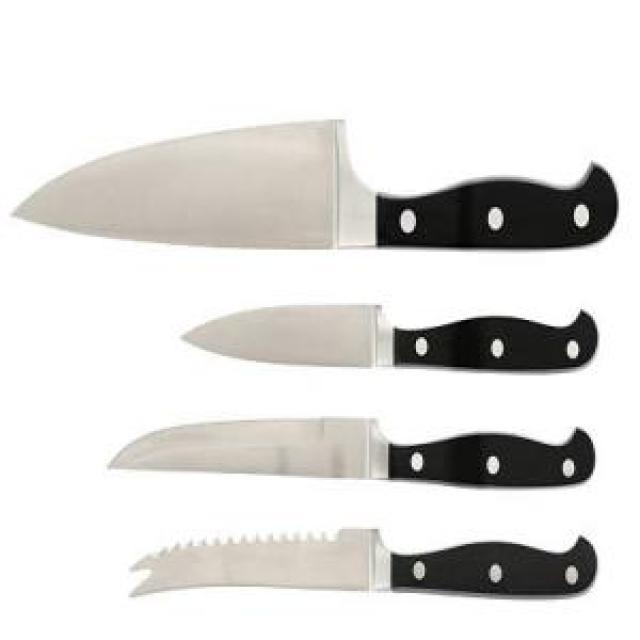knife: (9, 117, 618, 253), (128, 527, 597, 604), (105, 418, 598, 489), (180, 303, 598, 371)
